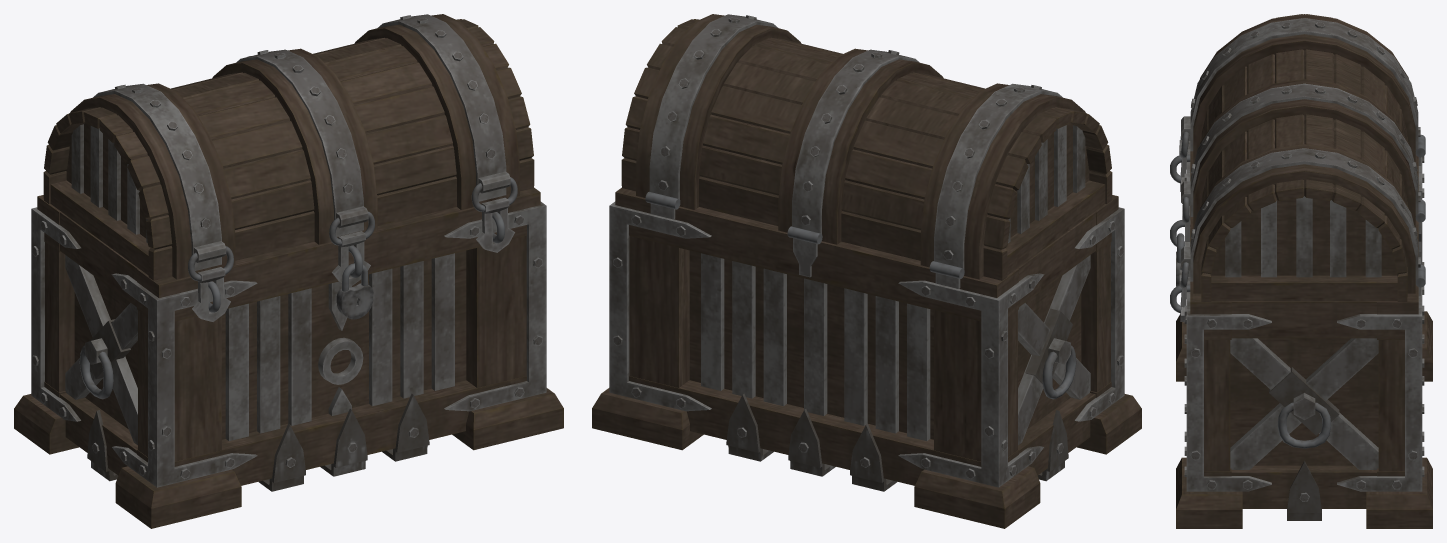
The model's file is chest_03.gltf.
The picture shows the model from 3 angles, left to right: view 1: azimuth 30°, elevation 25°; view 2: azimuth 150°, elevation 25°; view 3: azimuth 270°, elevation 25°; orthographic projection. The views are drawn at different scales.
Visible parts, largest first — view 1: Cube_LP_Material_0; view 2: Cube_LP_Material_0; view 3: Cube_LP_Material_0.
Boxes of the visible parts, x1=… form: Cube_LP_Material_0: x1=14, y1=14, x2=563, y2=528; Cube_LP_Material_0: x1=592, y1=14, x2=1141, y2=528; Cube_LP_Material_0: x1=1170, y1=14, x2=1432, y2=528.
Bounding box in the file's own units: 1 × 0.8537 × 0.5886.
1 material, 1 textured.
